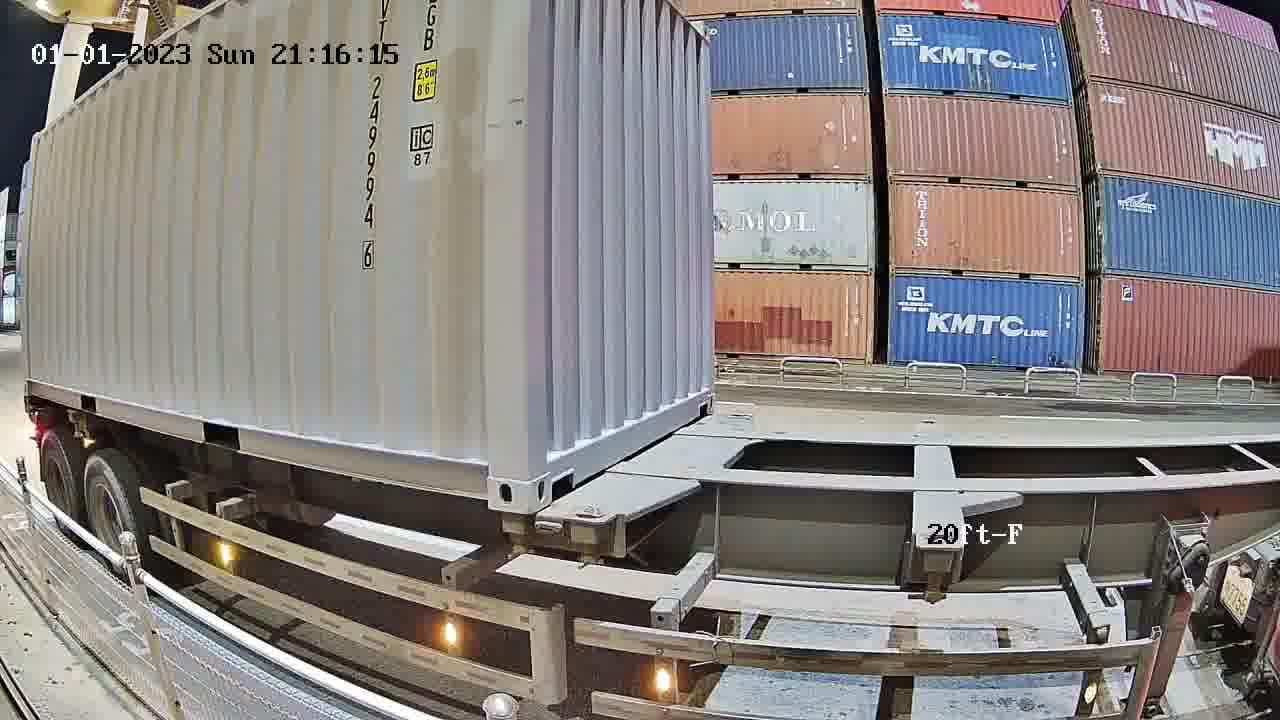Cone: (496, 510, 531, 553)
Hole_L: (529, 420, 582, 510)
Hole_R: (469, 433, 529, 513), (688, 370, 715, 419)
Tire: (81, 458, 136, 551), (41, 436, 77, 514)
